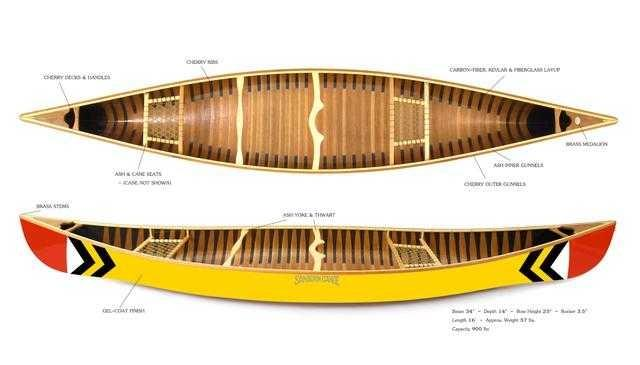kayak: (11, 66, 618, 307)
